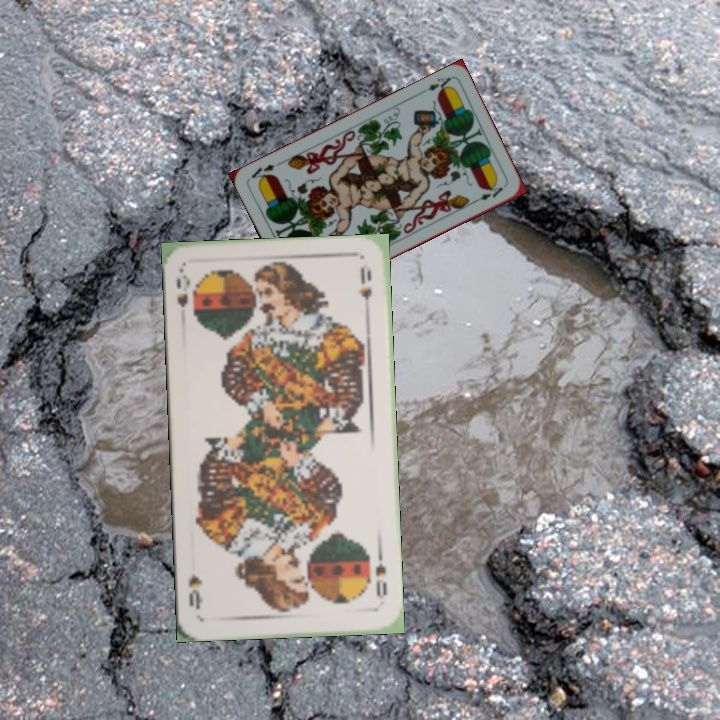EA: (423, 73, 454, 95)
SO: (371, 549, 390, 599), (172, 266, 192, 310)
